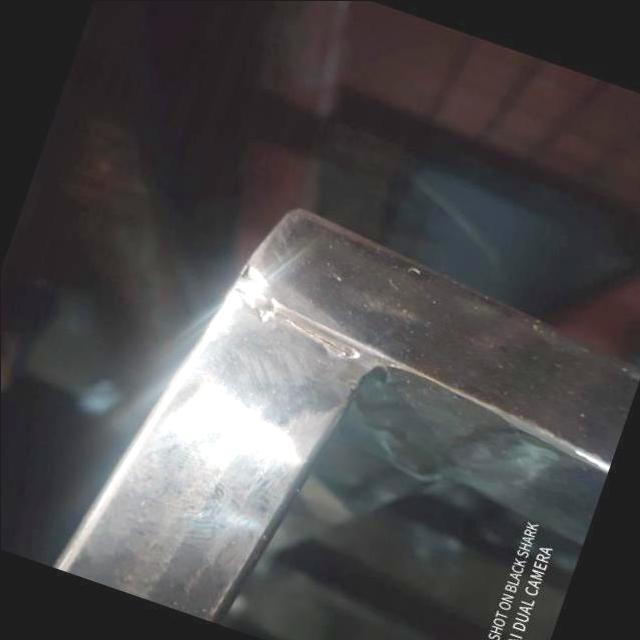defect: (271, 308, 355, 357)
